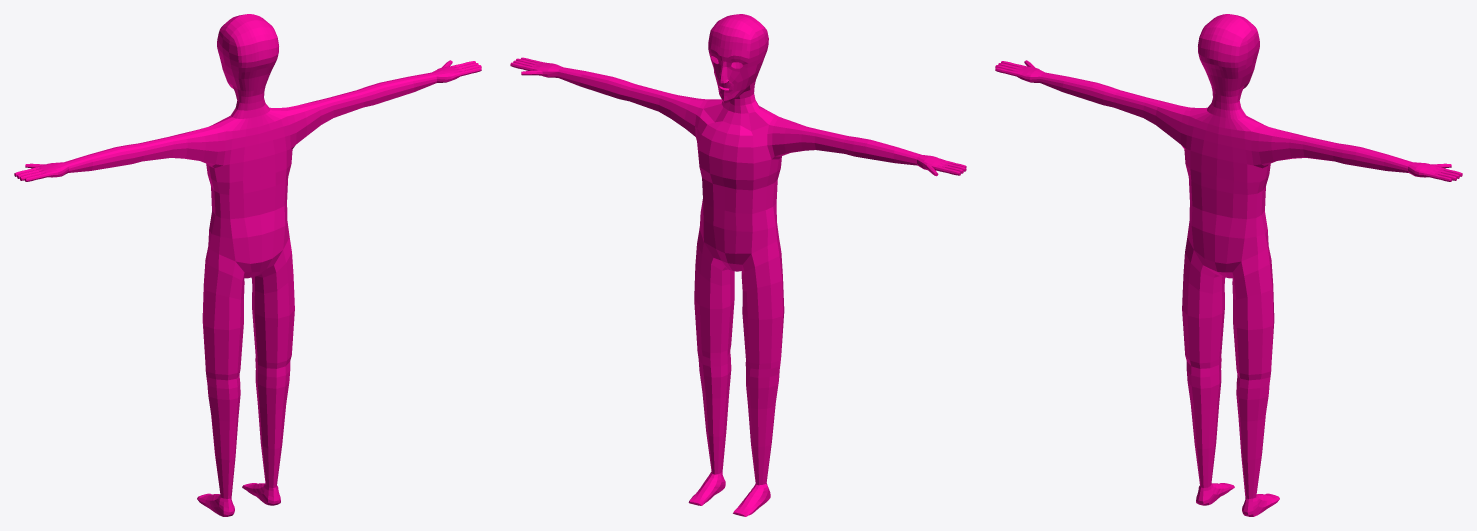
Rendered from prueba002.obj.
The picture shows the model from 3 angles, left to right: view 1: azimuth 30°, elevation 25°; view 2: azimuth 150°, elevation 25°; view 3: azimuth 330°, elevation 25°; orthographic projection. The views are drawn at different scales.
Parts seen in each view (by area): view 1: Plane_Plane.001; view 2: Plane_Plane.001; view 3: Plane_Plane.001.
Boxes of the visible parts, left/top/right/bottom form: Plane_Plane.001: left=14, top=14, right=481, bottom=516; Plane_Plane.001: left=510, top=14, right=966, bottom=516; Plane_Plane.001: left=995, top=14, right=1462, bottom=516.
Size of the model in its own units: 6.92 by 7.05 by 0.9805.
